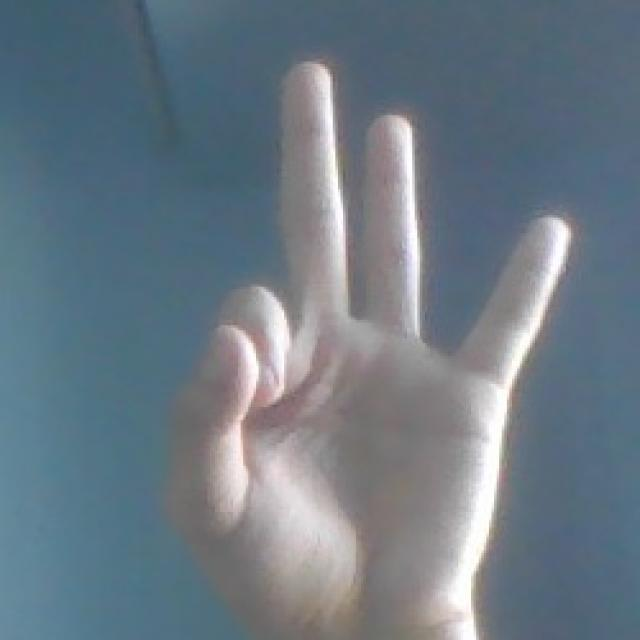Numeric-9: (163, 47, 573, 627)
